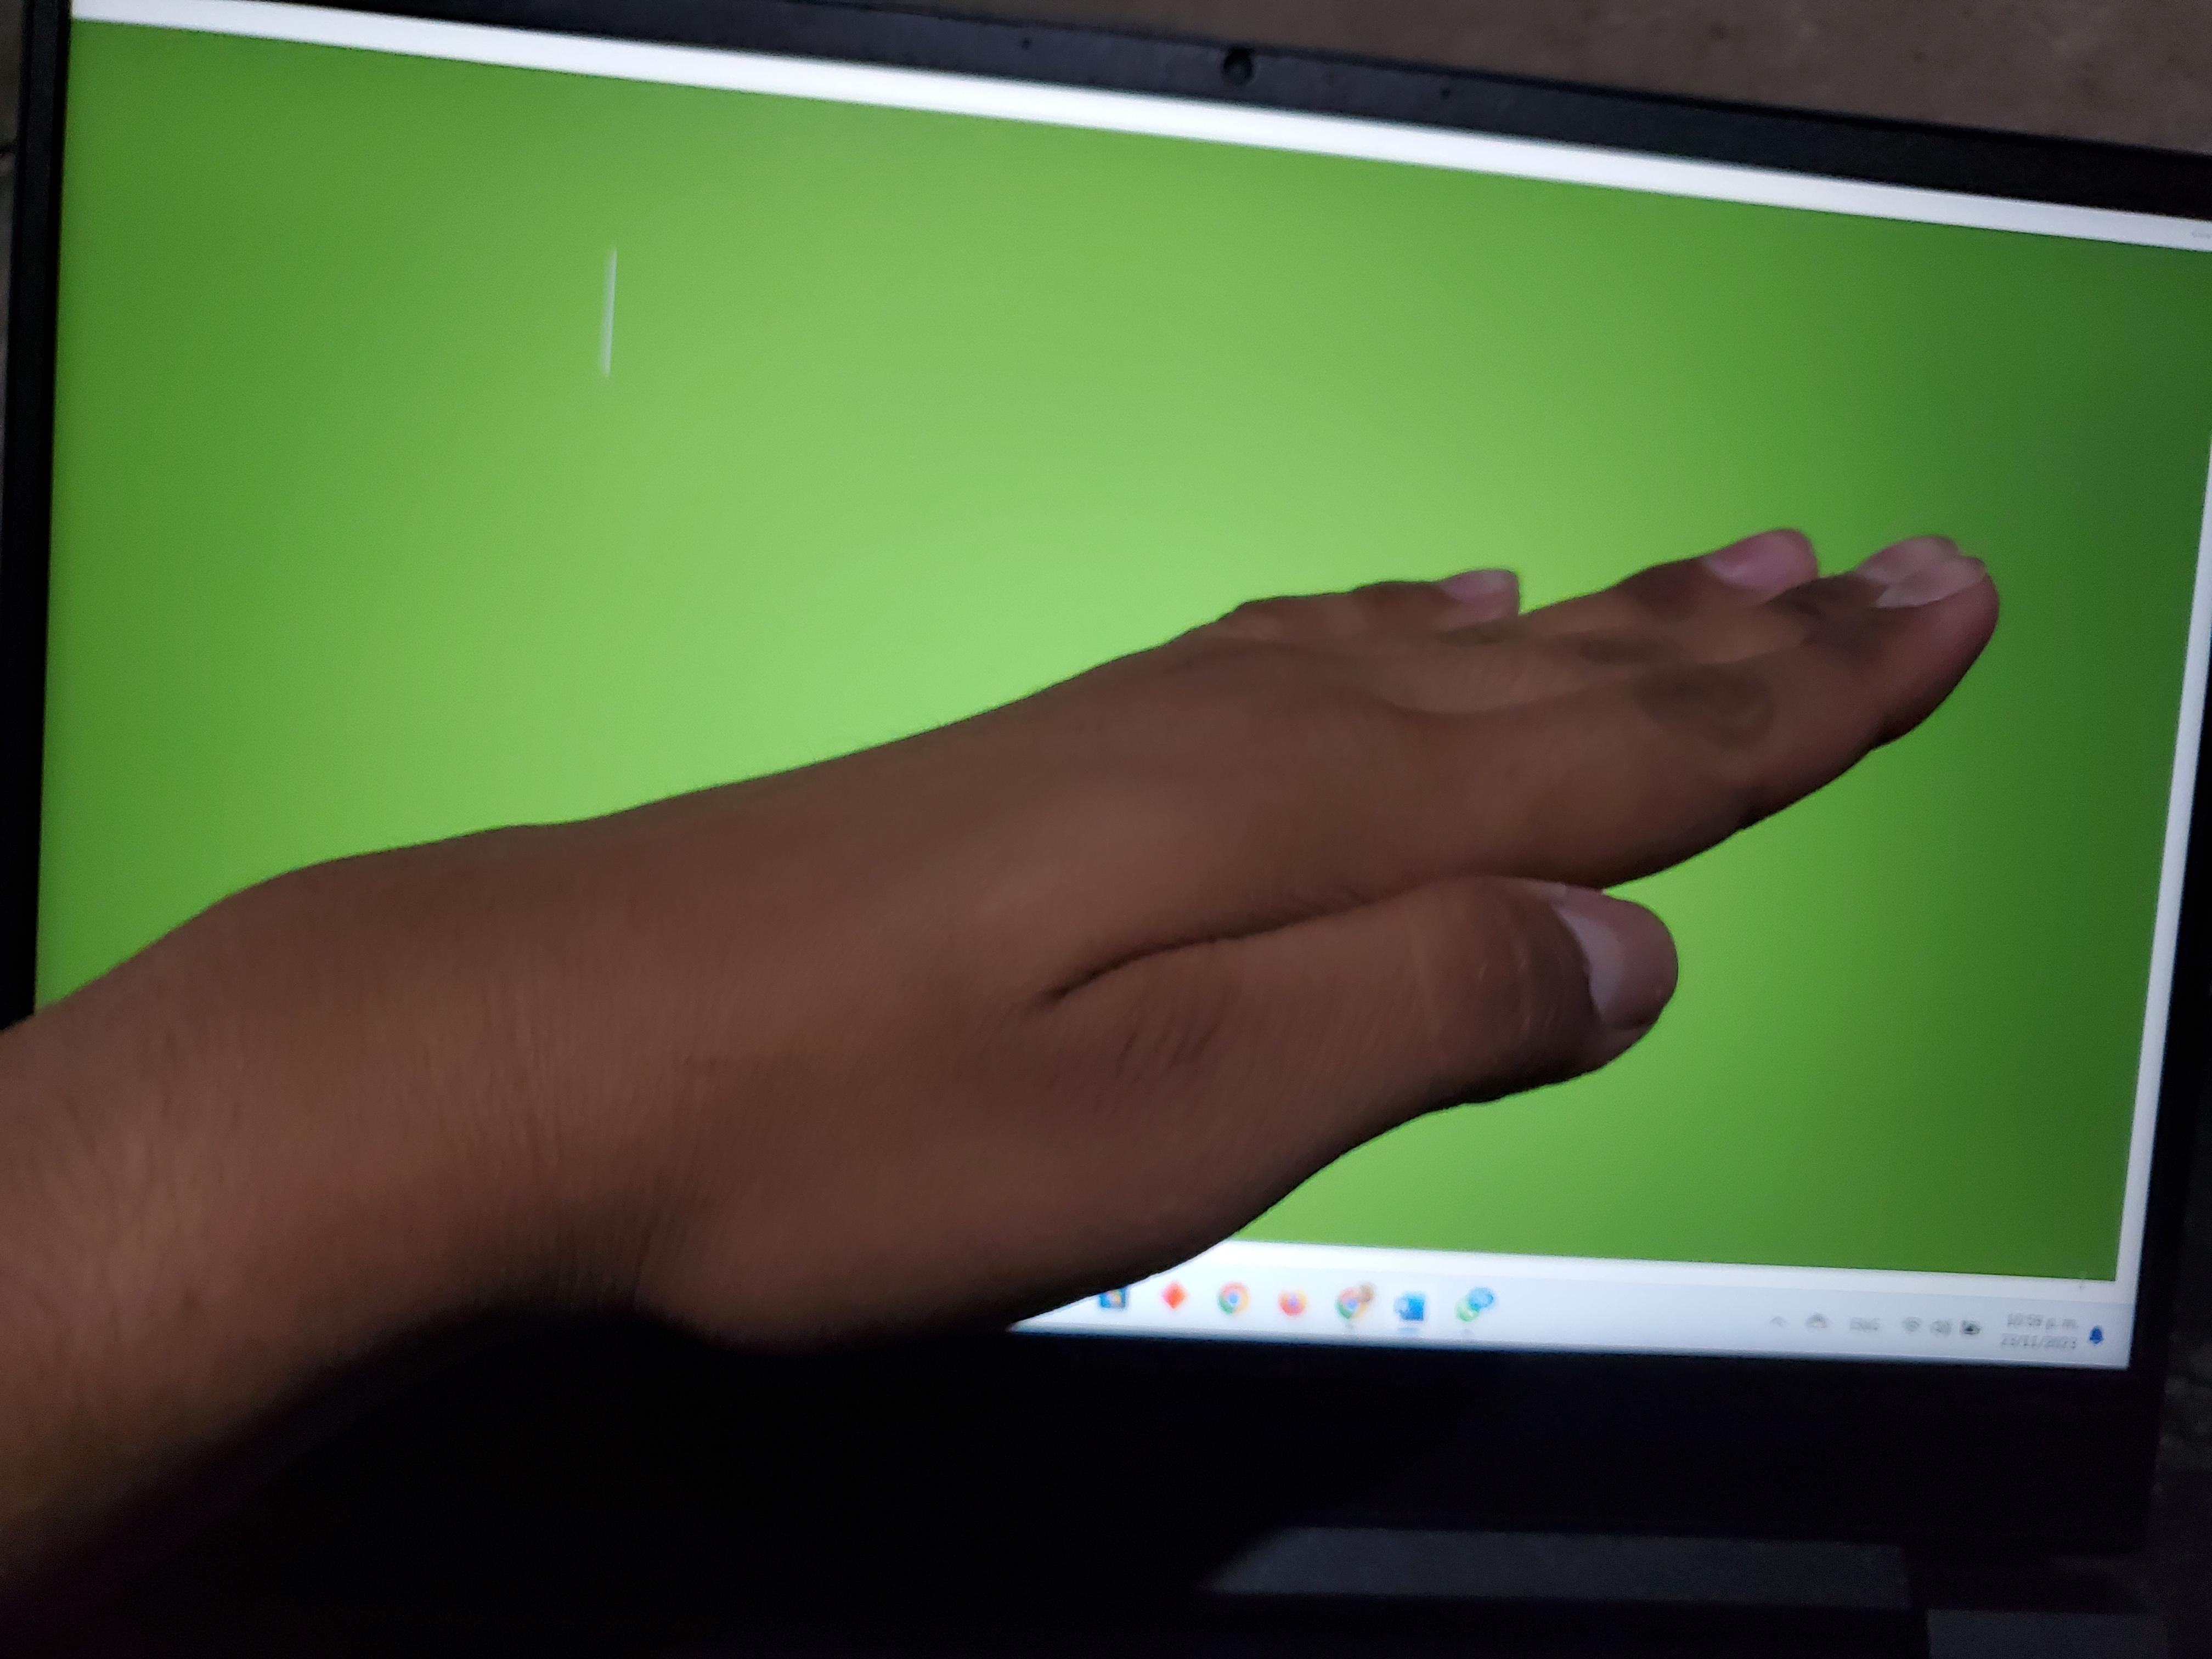Paper: (111, 160, 2125, 1567)
